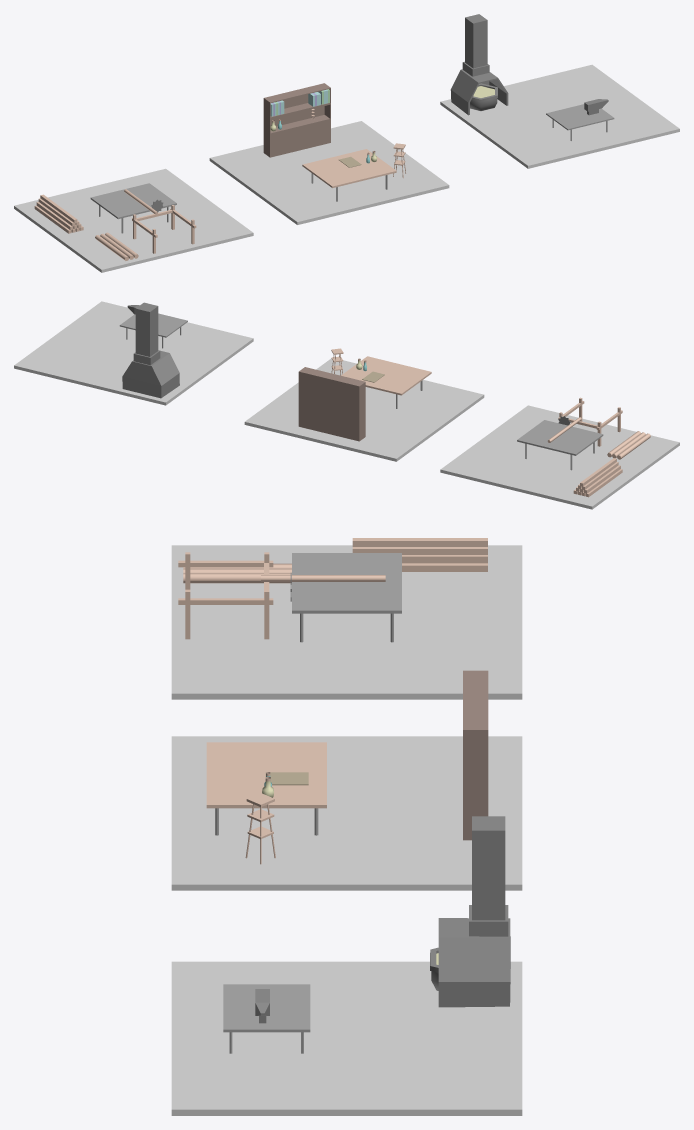
File: machine.fbx
The picture shows the model from 3 angles, top to bottom: view 1: azimuth 30°, elevation 25°; view 2: azimuth 150°, elevation 25°; view 3: azimuth 270°, elevation 25°; orthographic projection. The views are drawn at different scales.
Visible parts, largest first — view 1: polySurface35, polySurface101, polySurface28, polySurface99, polySurface94, polySurface27, polySurface43, polySurface44, polySurface36, polySurface42; view 2: polySurface28, polySurface35, polySurface101, polySurface99, polySurface44, polySurface94, polySurface27, polySurface43, polySurface36; view 3: polySurface35, polySurface101, polySurface28, polySurface94, polySurface27, polySurface44, polySurface43, polySurface99, polySurface36, polySurface11, polySurface2, polySurface25 (+1 smaller).
Part boxes in pixels (x1,y1,x2,y2): polySurface35: (440,64,679,168); polySurface101: (209,121,449,224); polySurface28: (14,168,253,272); polySurface99: (263,83,330,157); polySurface94: (302,149,396,188); polySurface27: (90,183,176,219); polySurface43: (462,14,489,76); polySurface44: (450,69,508,115); polySurface36: (546,104,614,130); polySurface42: (470,83,497,110); polySurface28: (440,405,679,509); polySurface35: (14,301,253,405); polySurface101: (244,358,484,461); polySurface99: (298,367,365,441); polySurface44: (122,350,179,398); polySurface94: (341,356,431,395); polySurface27: (517,420,603,455); polySurface43: (133,302,160,365); polySurface36: (119,313,187,337); polySurface35: (171,961,522,1115); polySurface101: (171,736,522,890); polySurface28: (171,545,522,699); polySurface94: (206,742,326,808); polySurface27: (292,553,401,613); polySurface44: (438,918,510,1007); polySurface43: (469,816,508,936); polySurface99: (463,670,488,840); polySurface36: (223,984,310,1032); polySurface11: (352,538,487,546); polySurface2: (352,547,487,554); polySurface25: (183,573,291,583).
Bounding box in the file's own units: 56.87 × 8.03 × 14.94.
